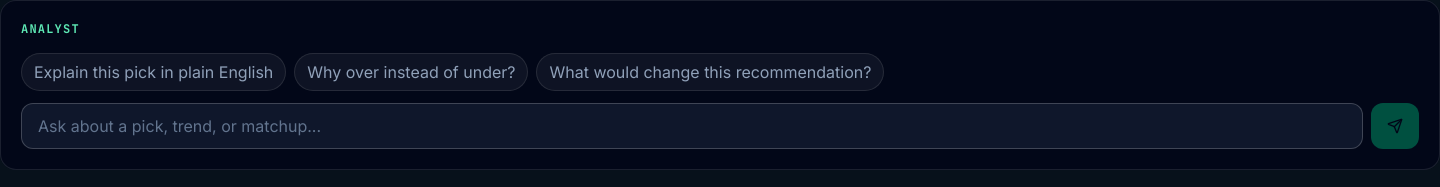
Test case: AnalystPanel › hides starter chips once input has text
Type "custom" into the field named "analyst question". click: (692, 126)
box: [21,103,1363,149]
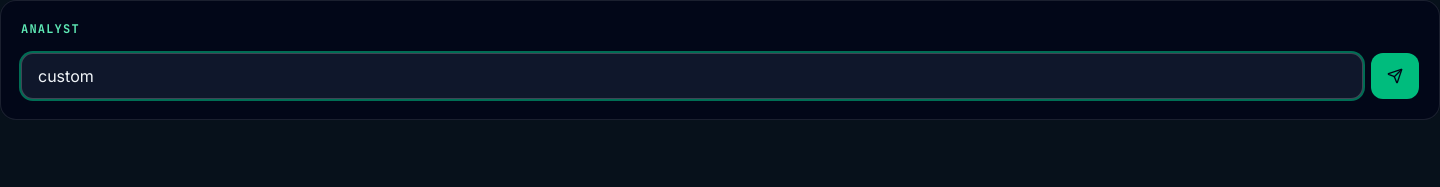
expect the button "Explain this pick in plain English" is gone: met
